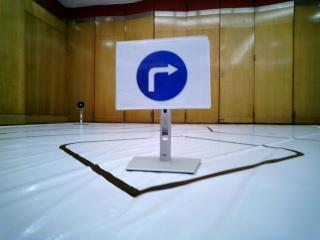right: (117, 42, 207, 109)
